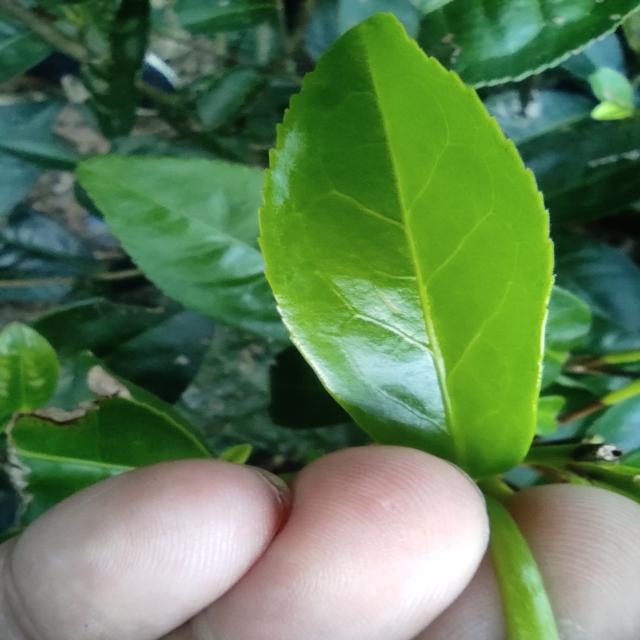Category C(4-7 days): (211, 0, 576, 538)
